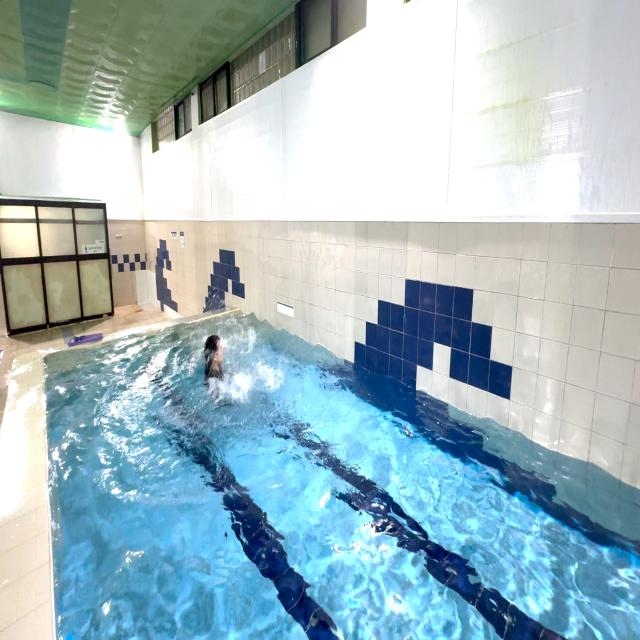Swimming: (202, 322, 255, 415)
